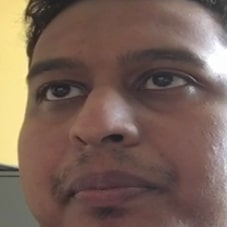awake: (21, 42, 217, 214)
